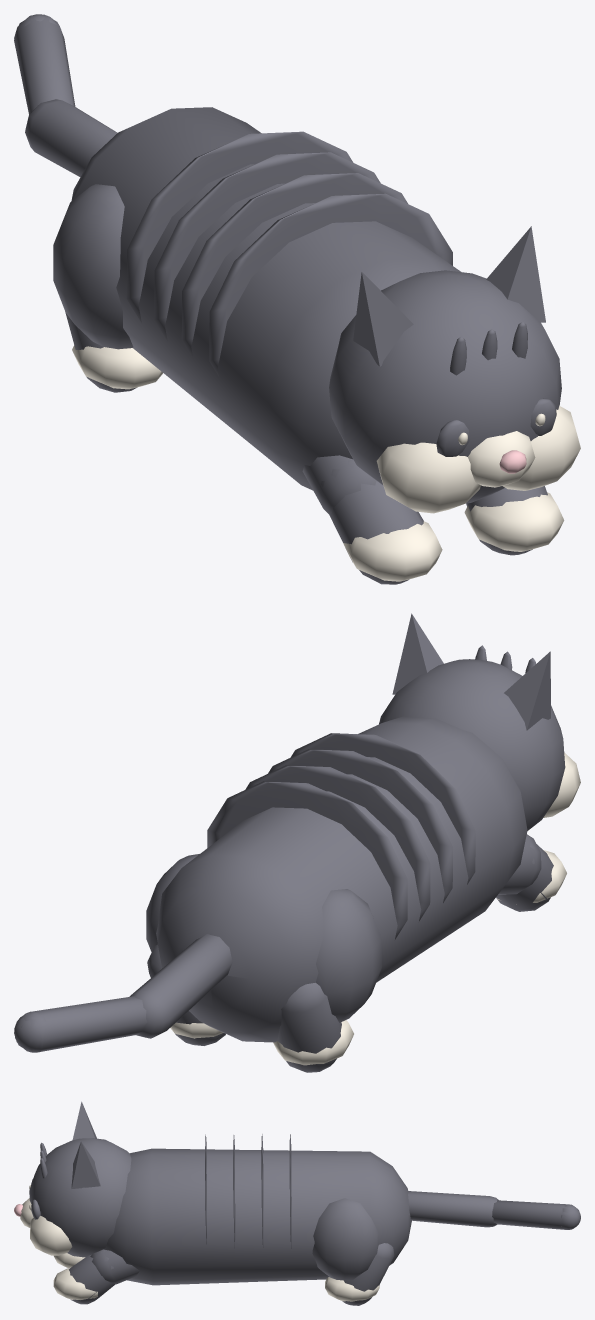
File: companion-animals-and-pet-home-cat-stalking-tuxedo-6bf2ce89__20554.glb
3 views of the same model, one above another, from view 1: azimuth 30°, elevation 25°; view 2: azimuth 150°, elevation 25°; view 3: azimuth 270°, elevation 25° (orthographic). The views are drawn at different scales.
Visible parts, largest first — view 1: cat-stalking-tuxedo; view 2: cat-stalking-tuxedo; view 3: cat-stalking-tuxedo.
Boxes of the visible parts, left/top/right/bottom form: cat-stalking-tuxedo: left=14, top=14, right=580, bottom=584; cat-stalking-tuxedo: left=14, top=613, right=580, bottom=1072; cat-stalking-tuxedo: left=14, top=1101, right=580, bottom=1305.
Bounding box in the file's own units: 0.2275 × 0.2667 × 0.8263.
